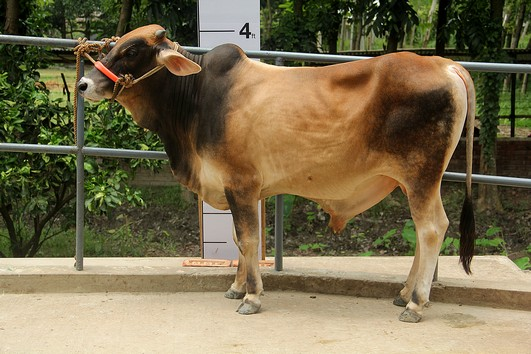cow: (71, 20, 479, 322)
